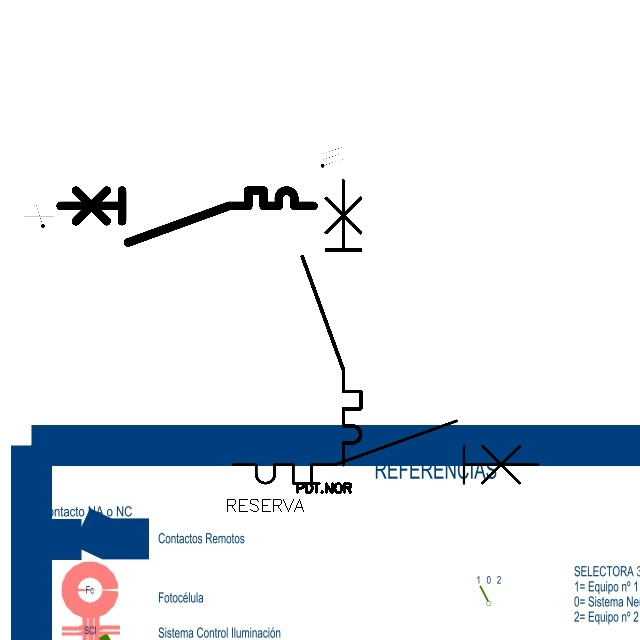interruptor_termomagnetico: (225, 413, 546, 491), (295, 173, 368, 471), (54, 184, 320, 249)
